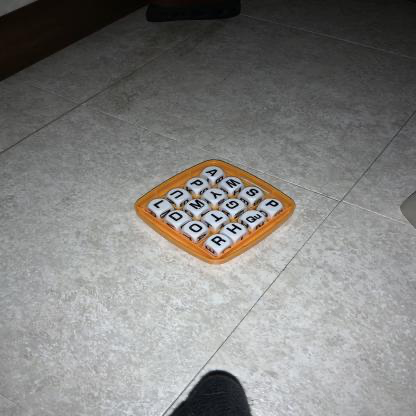a: (205, 166, 222, 179)
d: (168, 212, 185, 224)
g: (225, 200, 242, 212)
h: (226, 223, 246, 237)
l: (151, 198, 166, 211)
m: (189, 199, 208, 212)
o: (189, 222, 205, 235)
p: (264, 200, 281, 211), (189, 179, 206, 189)
qu: (245, 212, 265, 225)
r: (209, 235, 229, 248)
s: (245, 188, 263, 199)
t: (209, 212, 226, 224)
u: (168, 189, 188, 201)
w: (224, 178, 243, 191)
y: (209, 190, 224, 202)
